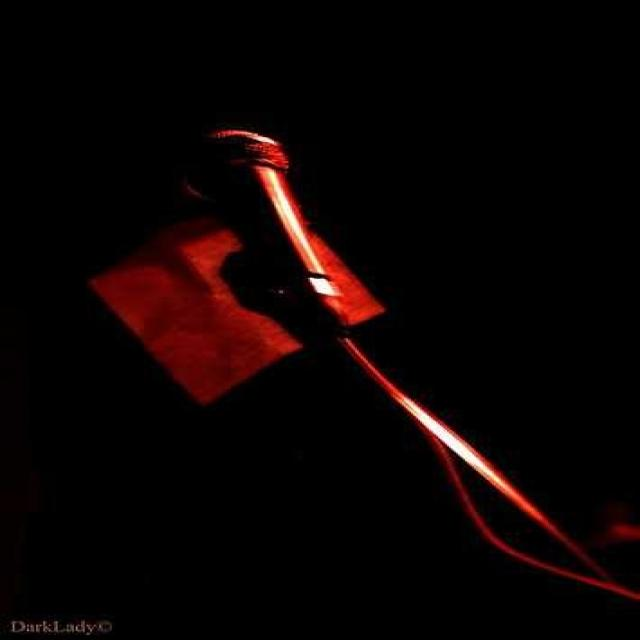microphone: (194, 127, 357, 319)
